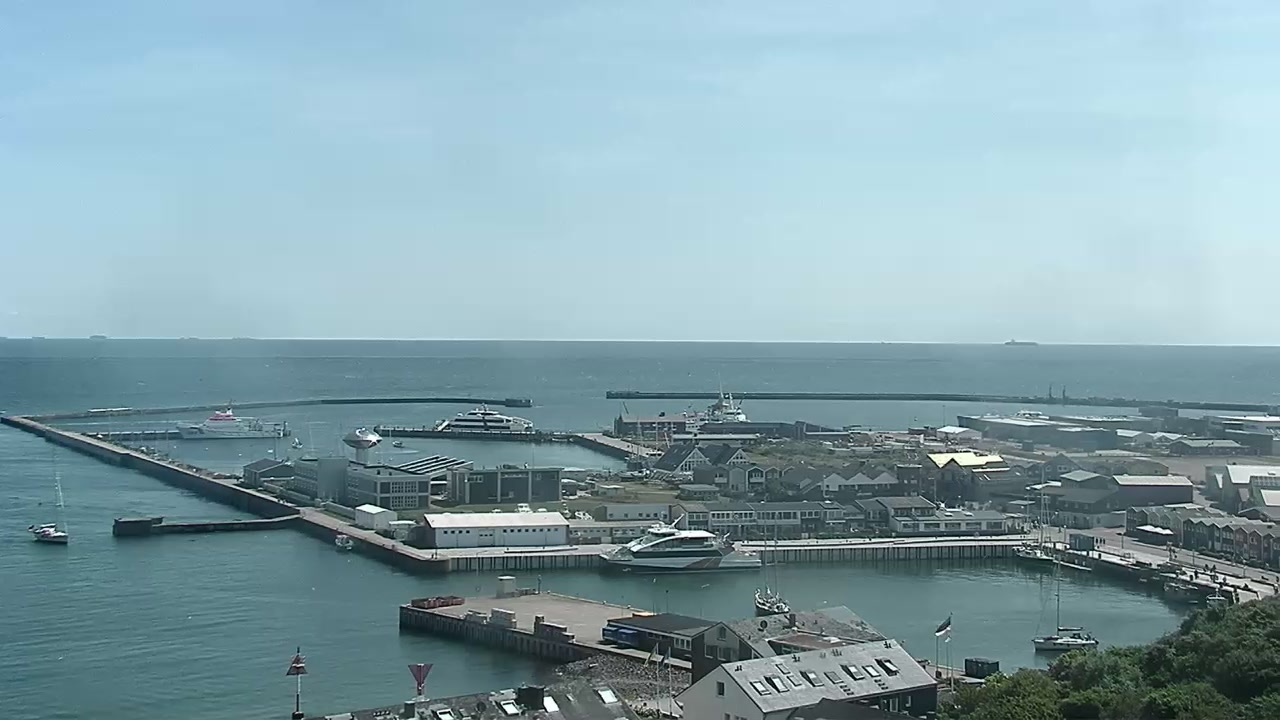human: (1210, 564, 1217, 572), (1202, 563, 1208, 572), (1193, 569, 1198, 579), (1095, 536, 1099, 544), (1099, 537, 1103, 545), (1102, 537, 1106, 545), (1276, 575, 1279, 583)
sea: (597, 510, 762, 573), (1030, 555, 1099, 650), (658, 371, 752, 429), (175, 397, 287, 439), (754, 507, 793, 616), (26, 451, 70, 543), (1013, 467, 1054, 564), (434, 401, 535, 431), (334, 533, 355, 551), (290, 437, 303, 449), (89, 333, 108, 339), (392, 440, 405, 448)
